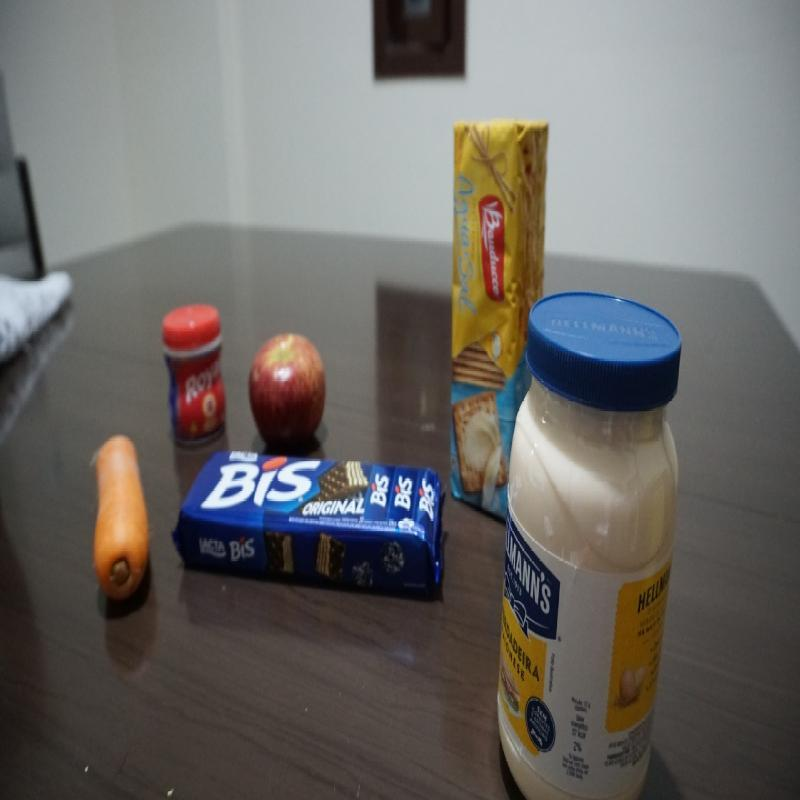Apple: (248, 332, 325, 451)
Carrot: (95, 432, 151, 606)
Cracker: (448, 113, 545, 525)
Mayonnaise: (493, 288, 684, 799)
Yeast: (160, 303, 228, 448)
